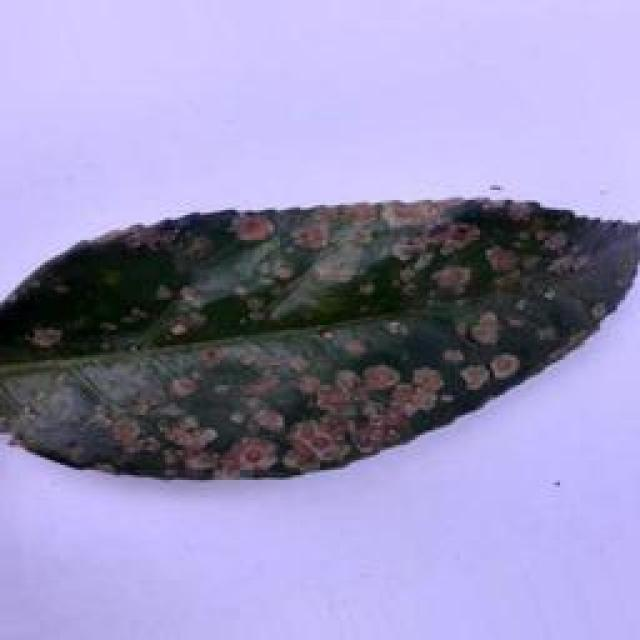Algal Leaf Spot: (2, 192, 640, 492)
